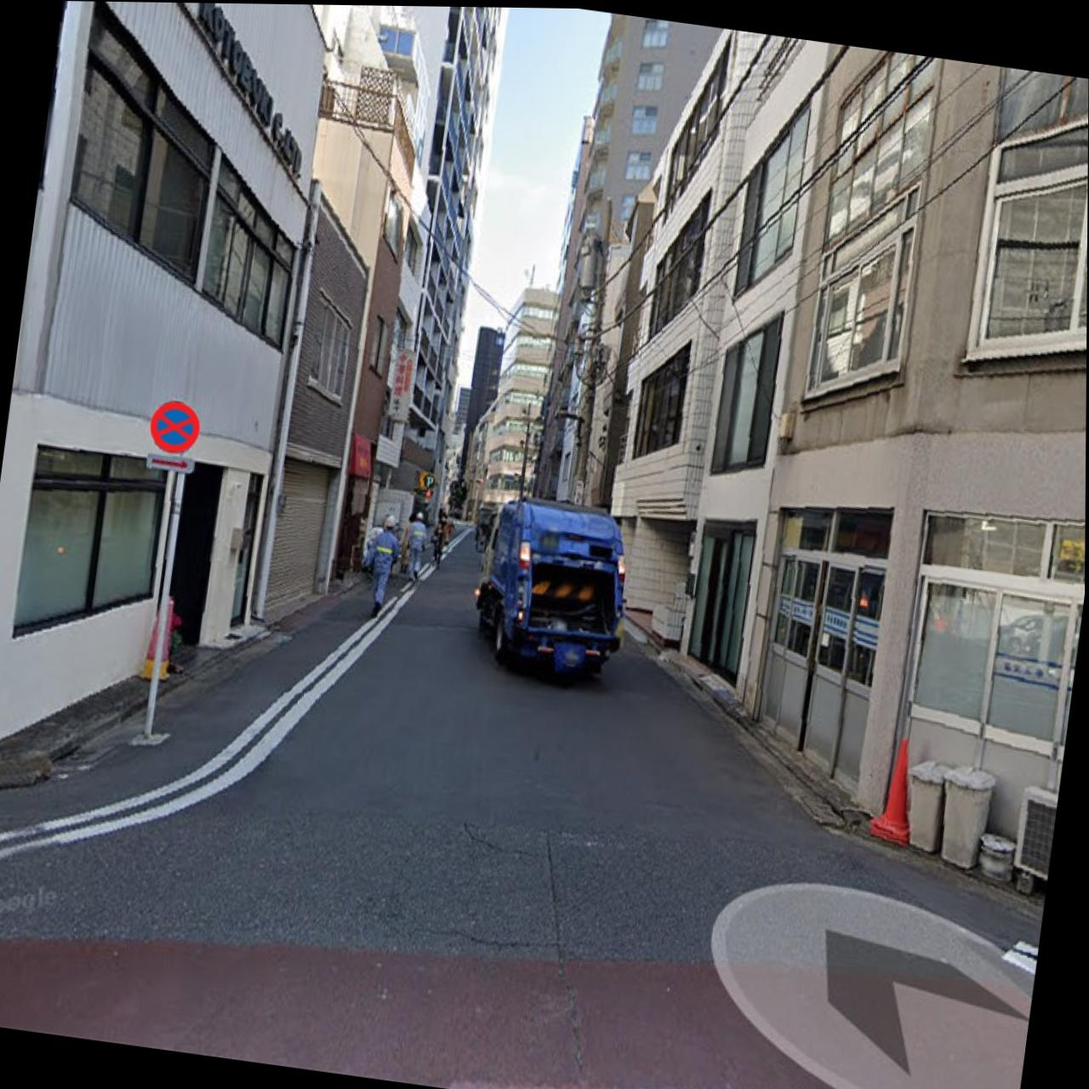stop_sign: (141, 395, 206, 459)
